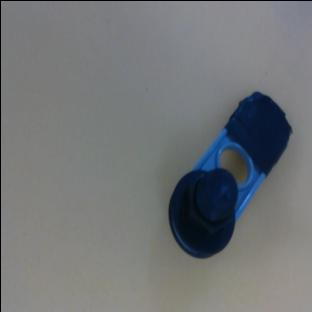part_1_bad: (149, 80, 302, 267)
